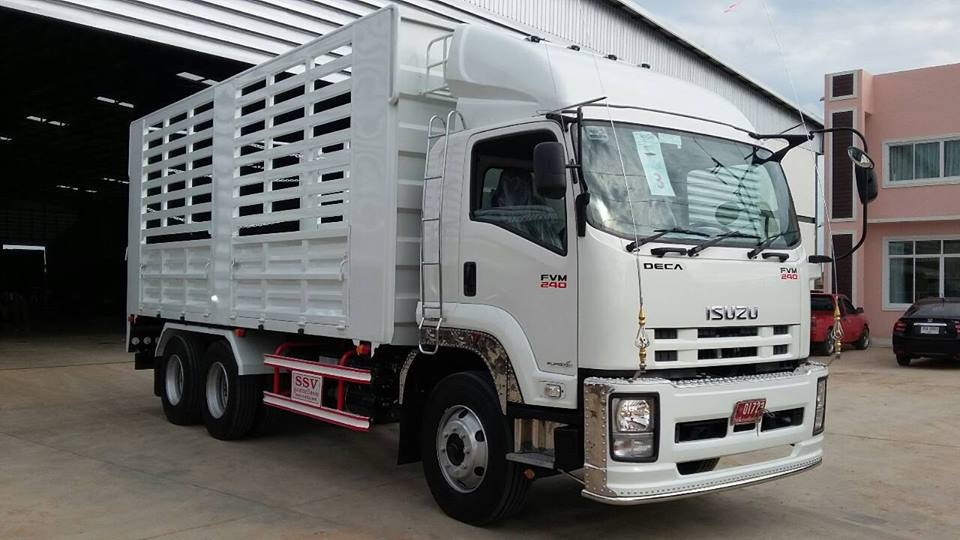truck: (387, 3, 831, 529)
